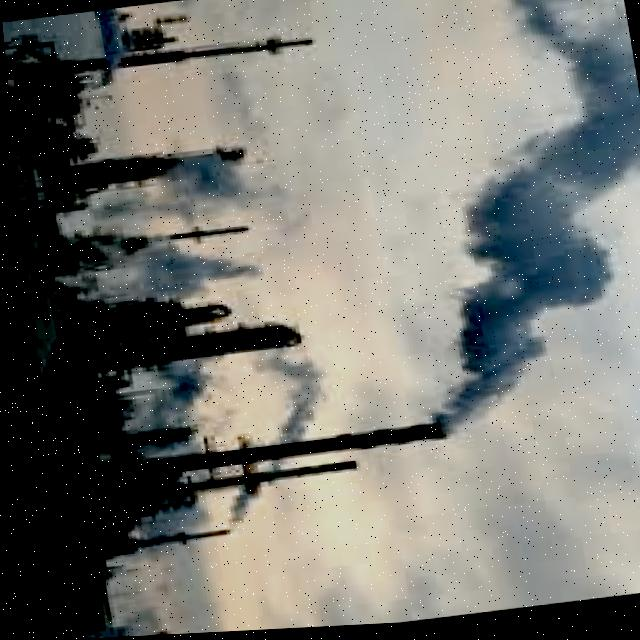Smoke: (353, 0, 640, 449), (101, 142, 361, 544)
